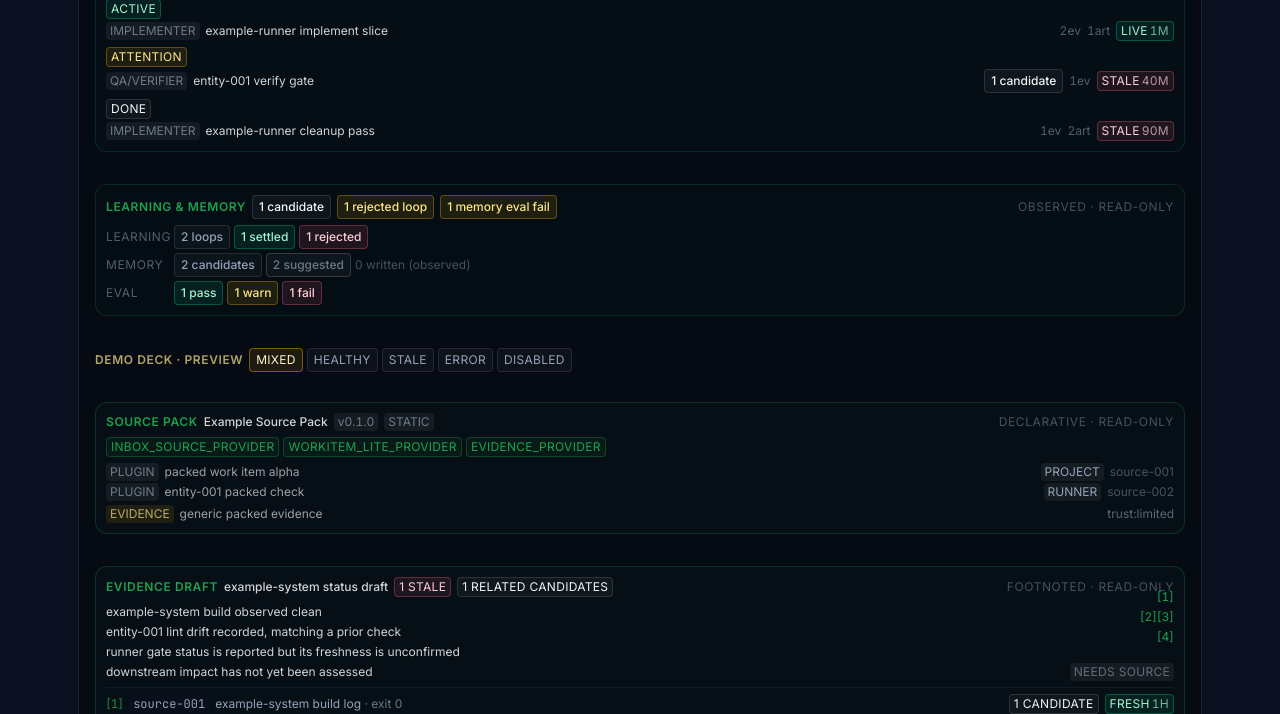
Batch 15 LINE C — PREVIEW demo deck › selecting 'error' renders a source in error health
(page scrolled)
Click the radio button labelled "error" at (465, 360), box [438,348,493,372]
(page scrolled)
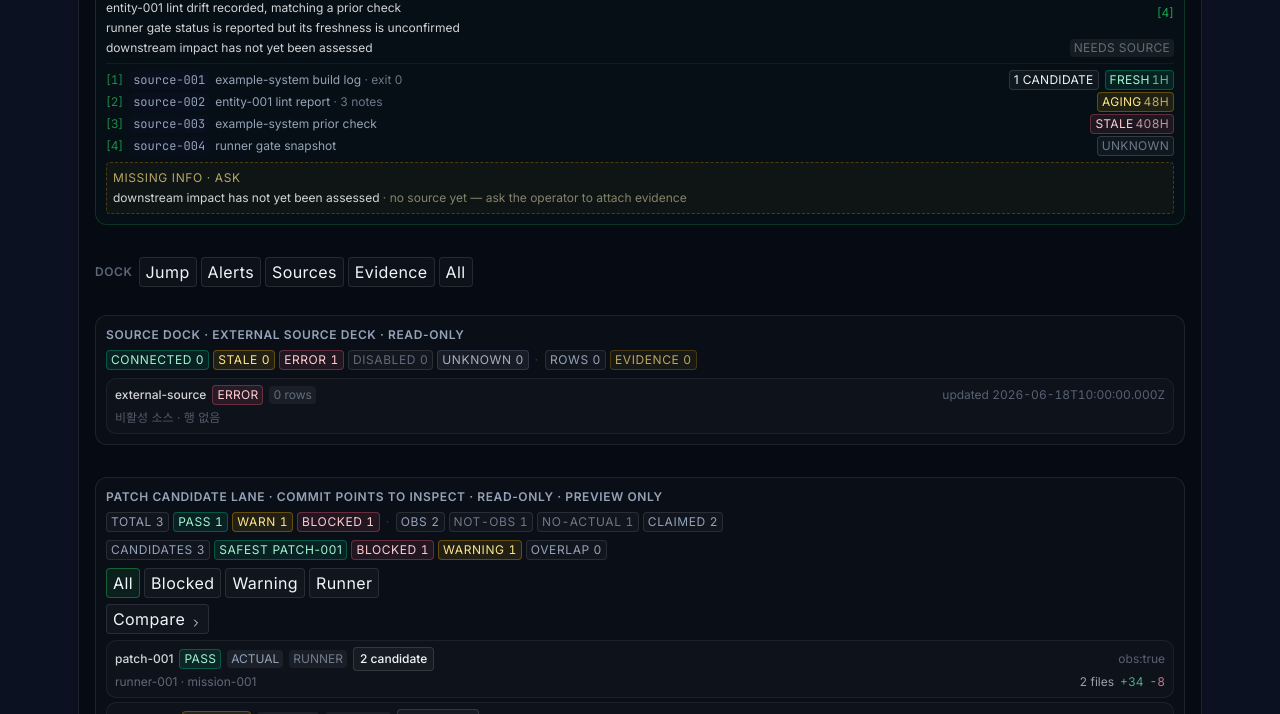
Expected: the element with test id "plugin-source-external-source" has attribute data-health="error", [106,378,1174,434]
Expected: the text with test id "source-health-count-error" has attribute data-count="1", [279,350,344,370]
Expected: the text with test id "source-health-total-rows" has attribute data-count="0", [545,350,606,370]
